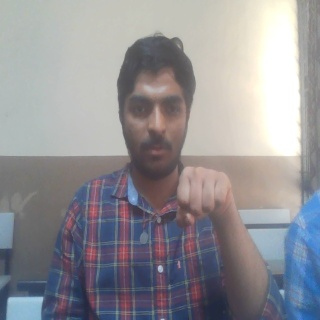Yes: (173, 167, 237, 231)
